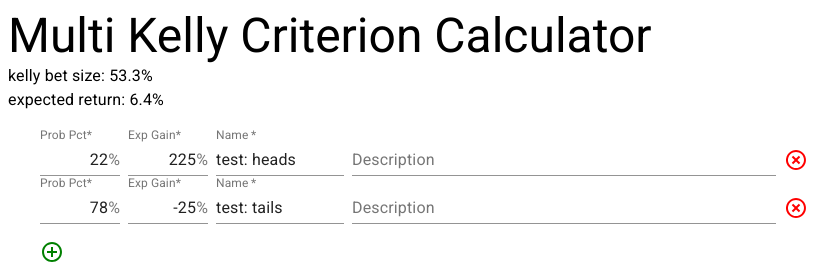
Test: kelly editor › errors › shows error when percentages don't add to 100
Replace the text in the 1st number field showing "22" with "21" at x=74, y=160, box x1=40 y1=144 x2=108 y2=176
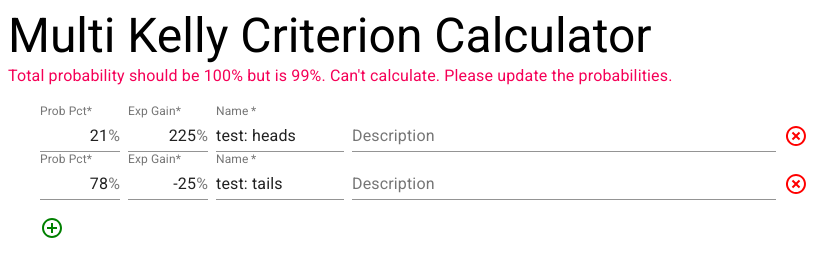
expect the text "Total probability should be 100% but is 99%. Can't calculate. Please update the probabilities." is shown: met, box x1=8 y1=66 x2=672 y2=85
